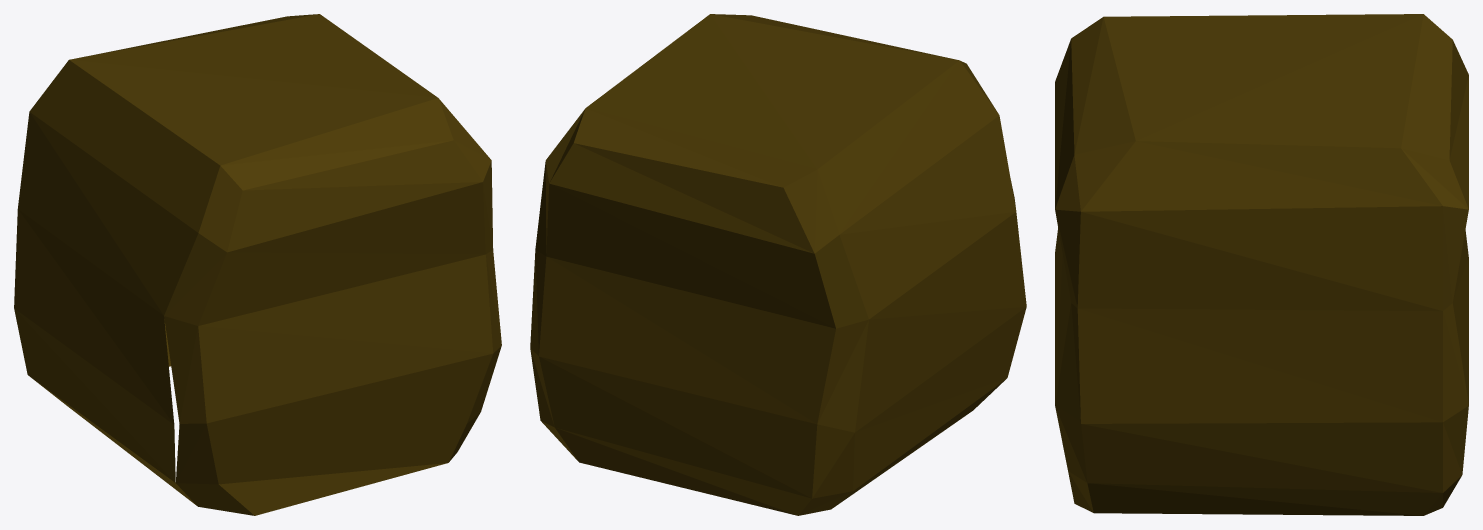
File: obj_brick_5_0.obj
3 views of the same model, side by side, from view 1: azimuth 30°, elevation 25°; view 2: azimuth 150°, elevation 25°; view 3: azimuth 270°, elevation 25° (orthographic). The views are drawn at different scales.
Size of the model in its own units: 1 by 0.9922 by 1.
